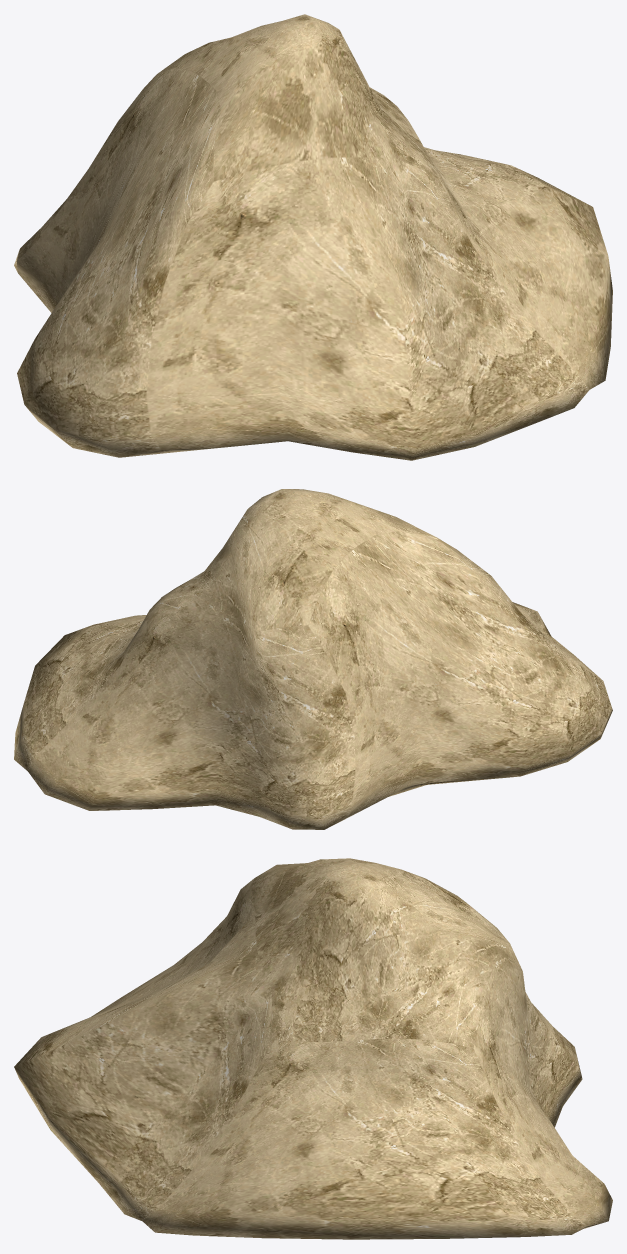
File: geo_desert_07.dae
The picture shows the model from 3 angles, top to bottom: view 1: azimuth 30°, elevation 25°; view 2: azimuth 150°, elevation 25°; view 3: azimuth 270°, elevation 25°; orthographic projection. The views are drawn at different scales.
Visible parts, largest first — view 1: Box02; view 2: Box02; view 3: Box02.
Boxes of the visible parts, <box> form: Box02: <box>14,14,612,460</box>; Box02: <box>14,489,612,829</box>; Box02: <box>14,858,612,1239</box>.
Size of the model in its own units: 37.99 by 36.99 by 19.53.
